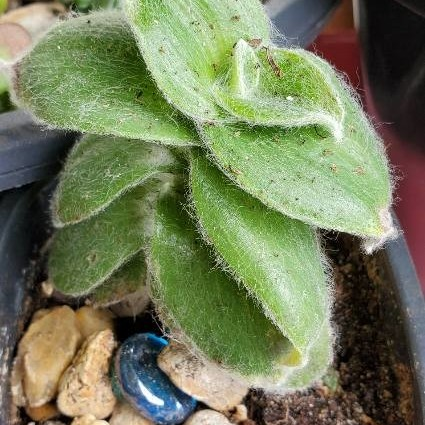obstacle: (14, 8, 403, 384)
